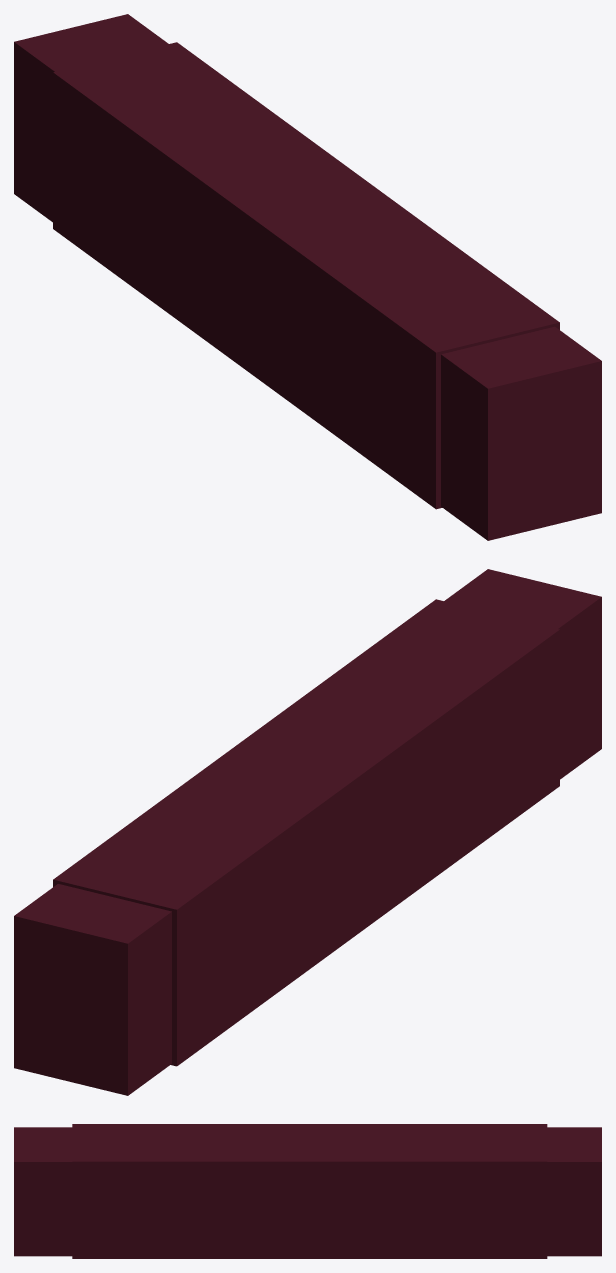
The model's file is H2000_COL_D4_0.glb.
The picture shows the model from 3 angles, top to bottom: view 1: azimuth 30°, elevation 25°; view 2: azimuth 150°, elevation 25°; view 3: azimuth 270°, elevation 25°; orthographic projection. The views are drawn at different scales.
Visible parts, largest first — view 1: COL_CAUTION, COL_R1, COL_R0, COL_R2, COL_L1, COL_L0, COL_L2; view 2: COL_CAUTION, COL_R1, COL_R2, COL_R0, COL_L1, COL_L2, COL_L0; view 3: COL_L1, COL_L0, COL_L2, COL_CAUTION, COL_R1, COL_R0, COL_R2.
Part boxes in pixels (x1=…): COL_CAUTION: x1=14, y1=14, x2=601, y2=540; COL_R1: x1=158, y1=134, x2=392, y2=431; COL_R0: x1=331, y1=261, x2=497, y2=509; COL_R2: x1=53, y1=57, x2=219, y2=305; COL_L1: x1=220, y1=119, x2=454, y2=260; COL_L0: x1=393, y1=245, x2=559, y2=340; COL_L2: x1=115, y1=42, x2=281, y2=133; COL_CAUTION: x1=14, y1=569, x2=601, y2=1095; COL_R1: x1=220, y1=691, x2=454, y2=989; COL_R2: x1=115, y1=818, x2=281, y2=1066; COL_R0: x1=393, y1=614, x2=559, y2=862; COL_L1: x1=158, y1=676, x2=392, y2=817; COL_L2: x1=53, y1=802, x2=219, y2=897; COL_L0: x1=331, y1=599, x2=497, y2=691; COL_L1: x1=202, y1=1143, x2=416, y2=1258; COL_L0: x1=72, y1=1143, x2=202, y2=1258; COL_L2: x1=417, y1=1143, x2=547, y2=1258; COL_CAUTION: x1=14, y1=1127, x2=601, y2=1256; COL_R1: x1=202, y1=1124, x2=416, y2=1142; COL_R0: x1=72, y1=1124, x2=202, y2=1142; COL_R2: x1=417, y1=1124, x2=547, y2=1142.
Size of the model in its own units: 6.62 by 8 by 43.87.
Materials: 9 (9 with a texture image).
